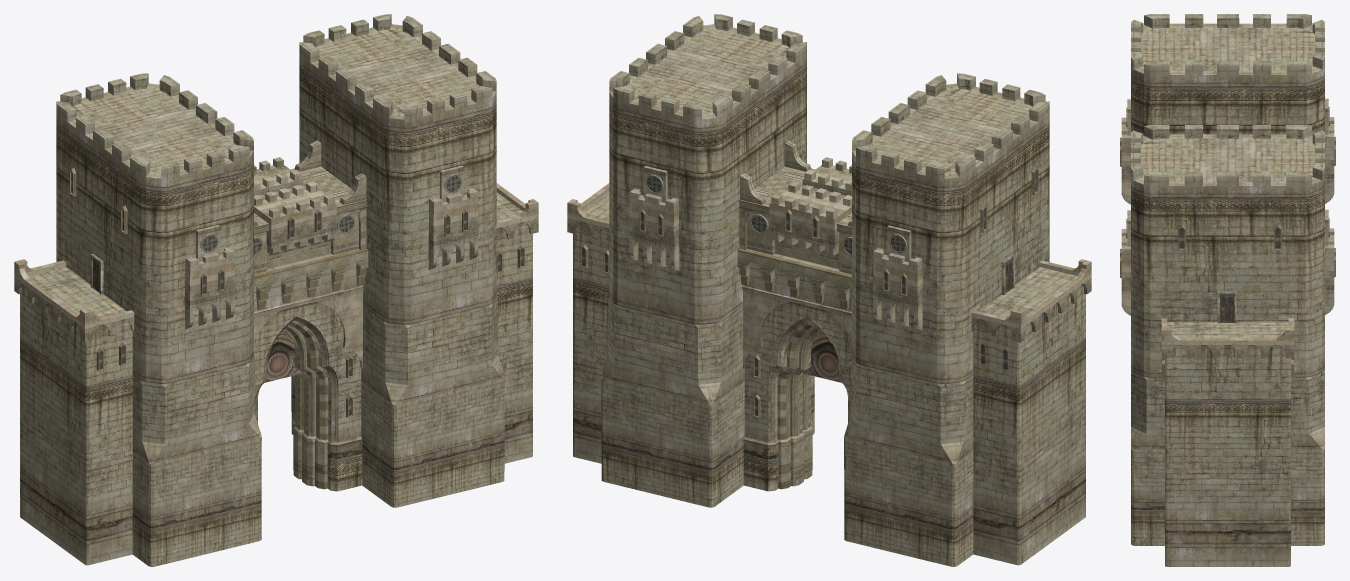
File: TW2_5_TOWNWALL_01_03-transformed.glb
3 renders of one model, left to right at view 1: azimuth 30°, elevation 25°; view 2: azimuth 150°, elevation 25°; view 3: azimuth 270°, elevation 25°, orthographic. The views are drawn at different scales.
Visible parts, largest first — view 1: default; view 2: default; view 3: default.
Part boxes in pixels (<box>): default: <box>14,14,538,566</box>; default: <box>567,14,1091,566</box>; default: <box>1120,14,1335,566</box>.
Size of the model in its own units: 40.47 by 33.69 by 17.84.
6 materials, 6 textured.
